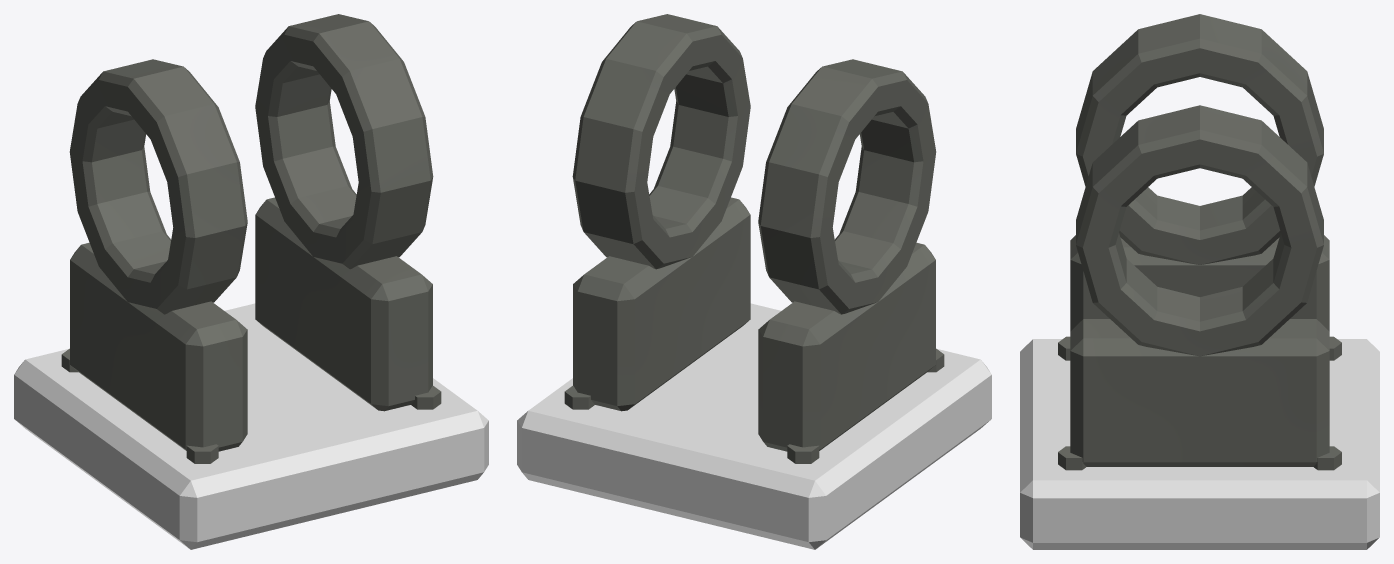
File: WarrensC_CCS41_LeverMountBase_Mars_SM.fbx
3 renders of one model, left to right at view 1: azimuth 30°, elevation 25°; view 2: azimuth 150°, elevation 25°; view 3: azimuth 270°, elevation 25°, orthographic.
Parts seen in each view (by area): view 1: WarrensC_CCS41_LeverMountBase_Mars_SM.001; view 2: WarrensC_CCS41_LeverMountBase_Mars_SM.001; view 3: WarrensC_CCS41_LeverMountBase_Mars_SM.001.
Boxes of the visible parts, x1,y1,x2,y2 form: WarrensC_CCS41_LeverMountBase_Mars_SM.001: [14, 14, 488, 549]; WarrensC_CCS41_LeverMountBase_Mars_SM.001: [517, 14, 991, 549]; WarrensC_CCS41_LeverMountBase_Mars_SM.001: [1020, 14, 1379, 549].
Bounding box in the file's own units: 40 × 40 × 50.
